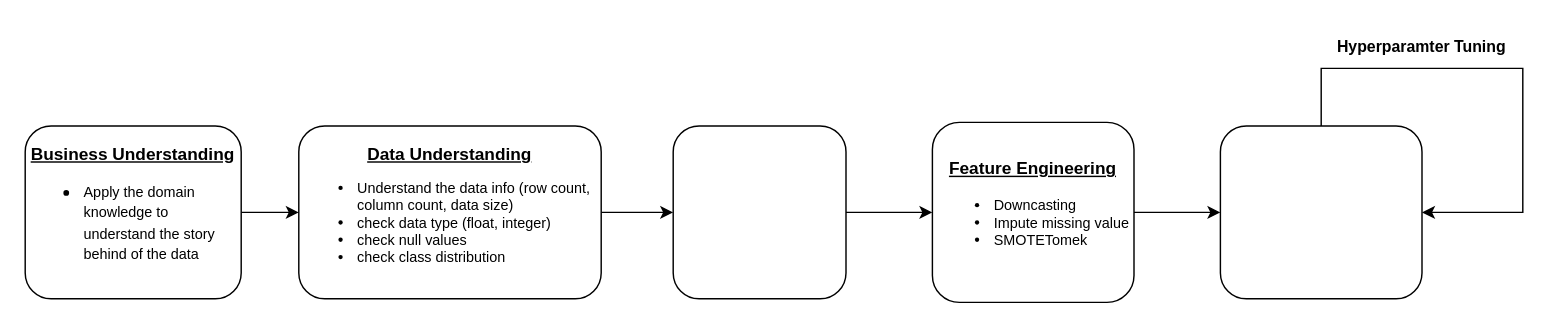
Image size: 1562x327. Some labels were removed from this diagram. Here are the shapes that lost their labels. From the top down, the centre of each, then its label:
At [759,212]: "EDA Visualization Histogram Boxplot Outlier Analysis".
At [1320,212]: "Model Creation Build classification model (XGBoost)".
